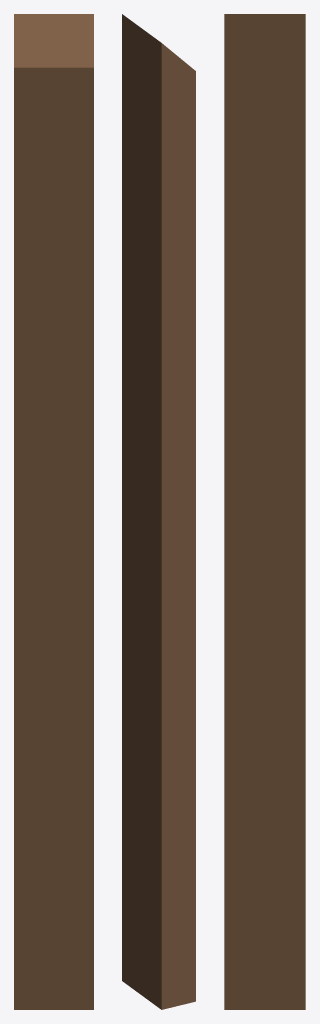
Rendered from rpg-mansion-garden-fence-terminal-half-post-01.glb.
3 views of the same model, side by side, from view 1: azimuth 90°, elevation 25°; view 2: azimuth 210°, elevation 25°; view 3: azimuth 270°, elevation 25° (orthographic). The views are drawn at different scales.
Visible parts, largest first — view 1: rpg-mansion-garden-fence-terminal-half-post-01; view 2: rpg-mansion-garden-fence-terminal-half-post-01; view 3: rpg-mansion-garden-fence-terminal-half-post-01.
Part boxes in pixels (x1,y1,x2,y2): rpg-mansion-garden-fence-terminal-half-post-01: (14, 14, 93, 1009); rpg-mansion-garden-fence-terminal-half-post-01: (122, 14, 195, 1009); rpg-mansion-garden-fence-terminal-half-post-01: (224, 14, 305, 1009).
Size of the model in its own units: 0.052 by 1.4 by 0.104.
